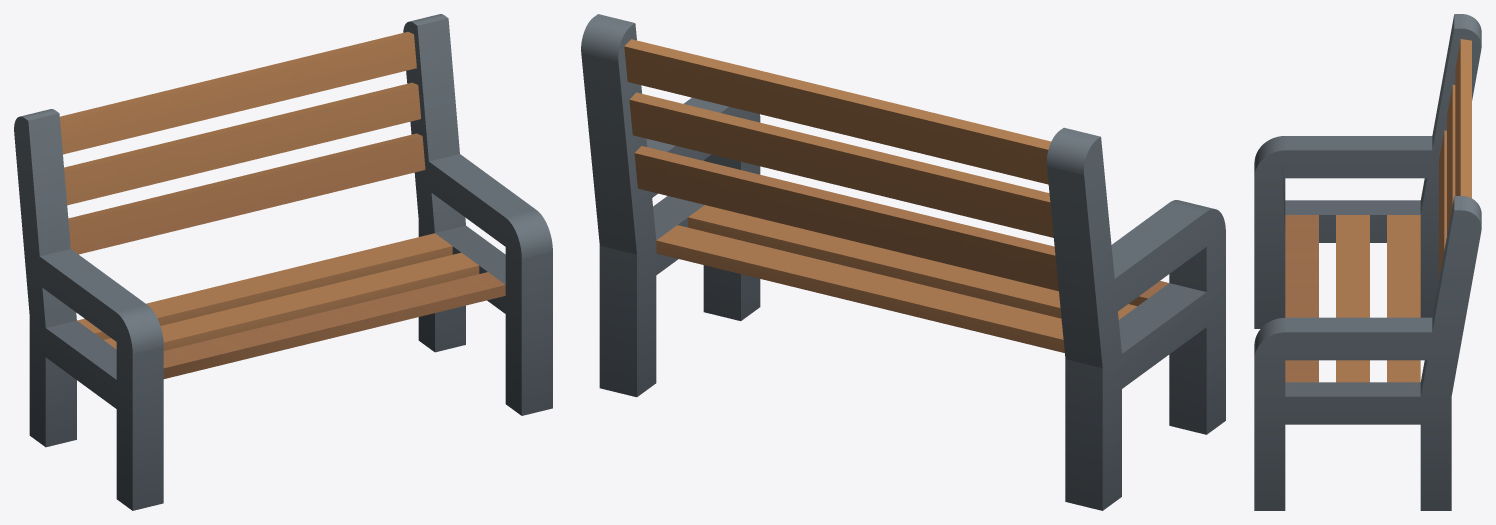
The model's file is bench.fbx.
3 renders of one model, left to right at view 1: azimuth 30°, elevation 25°; view 2: azimuth 150°, elevation 25°; view 3: azimuth 270°, elevation 25°, orthographic. The views are drawn at different scales.
Parts seen in each view (by area): view 1: bench:bench; view 2: bench:bench; view 3: bench:bench.
Part boxes in pixels (left/top/right/bottom): bench:bench: left=14, top=14, right=552, bottom=510; bench:bench: left=581, top=14, right=1225, bottom=510; bench:bench: left=1254, top=14, right=1481, bottom=510.
Size of the model in its own units: 99.33 by 70.86 by 48.57.
